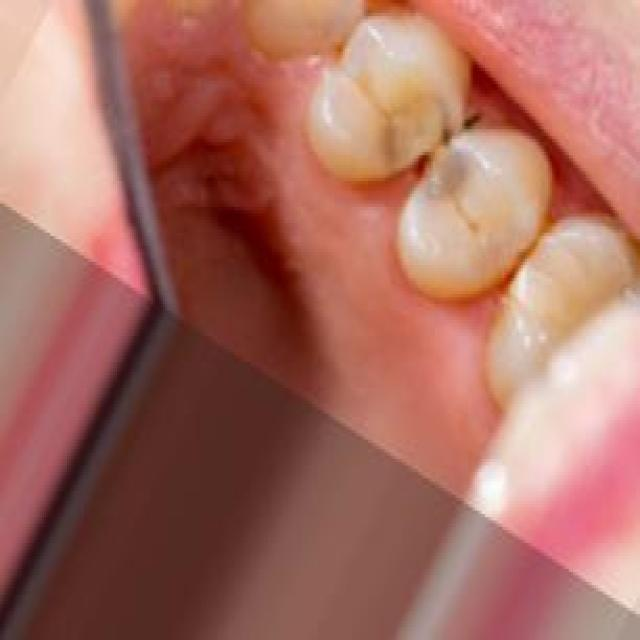caries: (357, 65, 482, 230)
